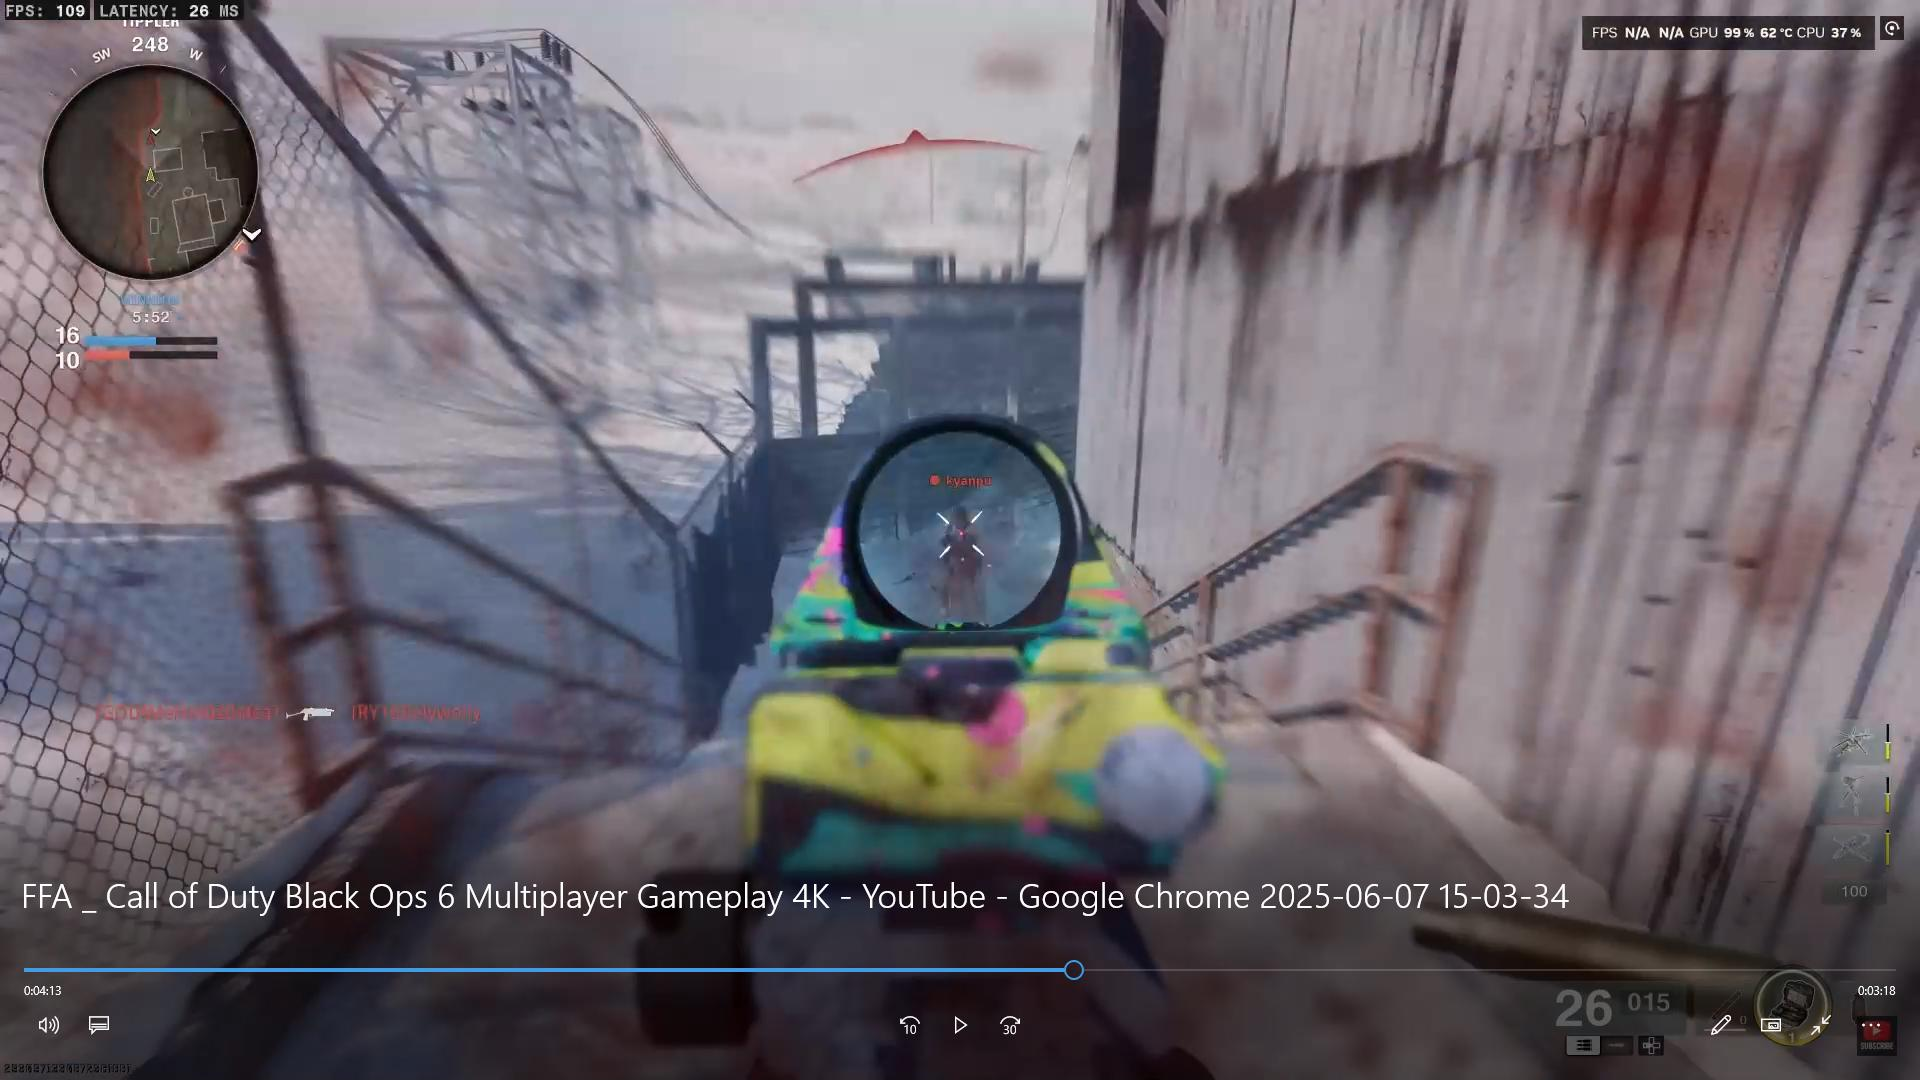Enemy: (928, 495, 988, 617)
